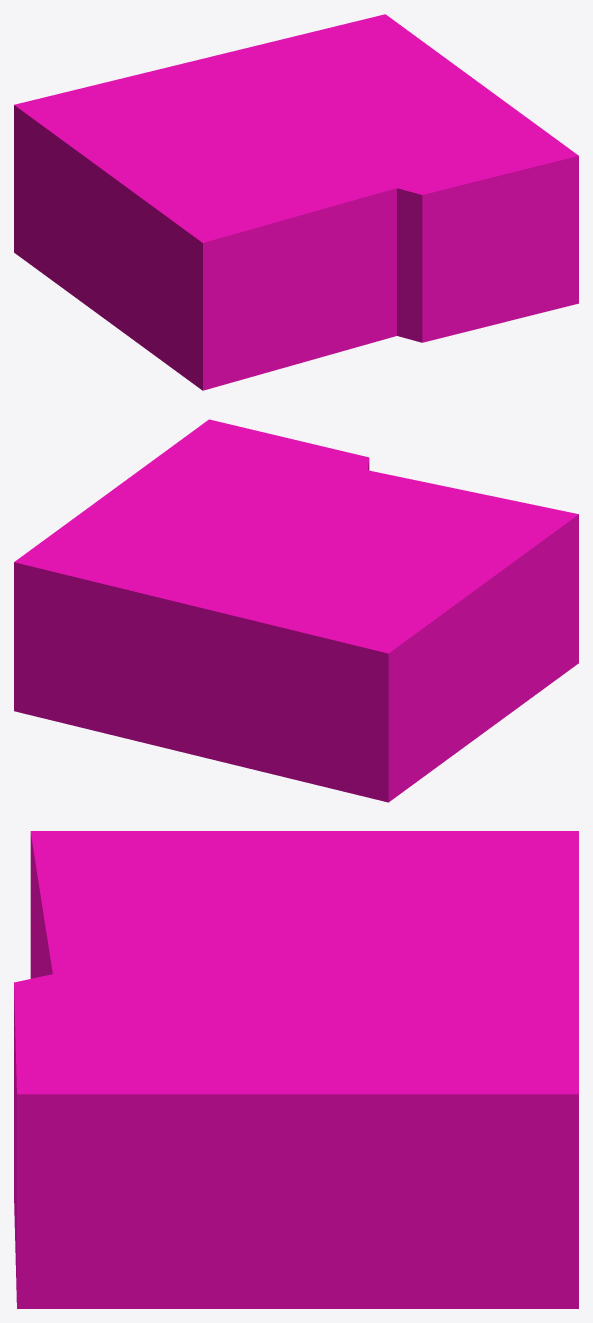
File: study_digitalBox_1_meshCollider.fbx
The picture shows the model from 3 angles, top to bottom: view 1: azimuth 30°, elevation 25°; view 2: azimuth 150°, elevation 25°; view 3: azimuth 270°, elevation 25°; orthographic projection. The views are drawn at different scales.
Visible parts, largest first — view 1: study_digitalBox_1_meshCollider; view 2: study_digitalBox_1_meshCollider; view 3: study_digitalBox_1_meshCollider.
Boxes of the visible parts, left/top/right/bottom form: study_digitalBox_1_meshCollider: left=14, top=14, right=578, bottom=390; study_digitalBox_1_meshCollider: left=14, top=419, right=578, bottom=802; study_digitalBox_1_meshCollider: left=14, top=831, right=578, bottom=1308.
Bounding box in the file's own units: 19.76 × 7.51 × 17.92.
